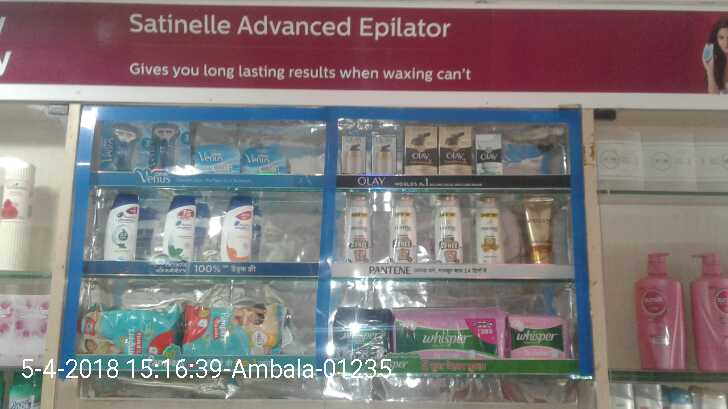venus: (147, 119, 190, 171), (103, 121, 147, 171), (192, 144, 241, 173), (241, 145, 289, 172)
